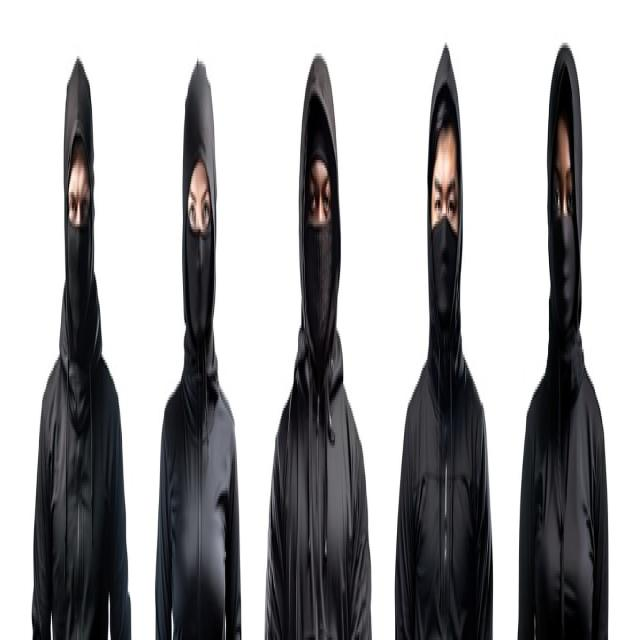person-with-mask: (512, 23, 623, 640), (390, 23, 499, 640), (29, 44, 139, 640), (268, 50, 377, 640), (149, 76, 253, 640)
